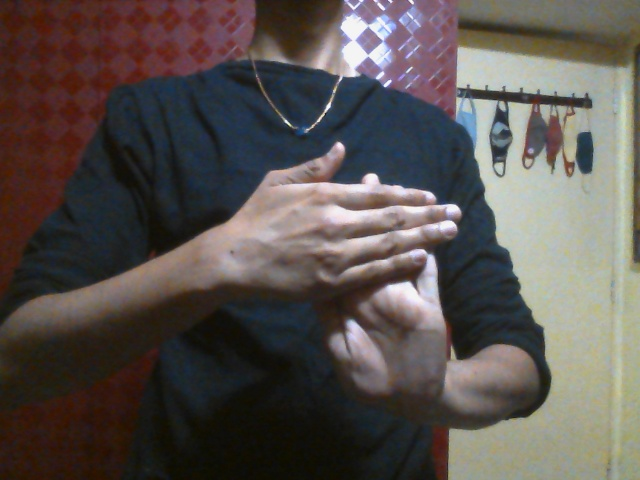H: (231, 141, 462, 406)
